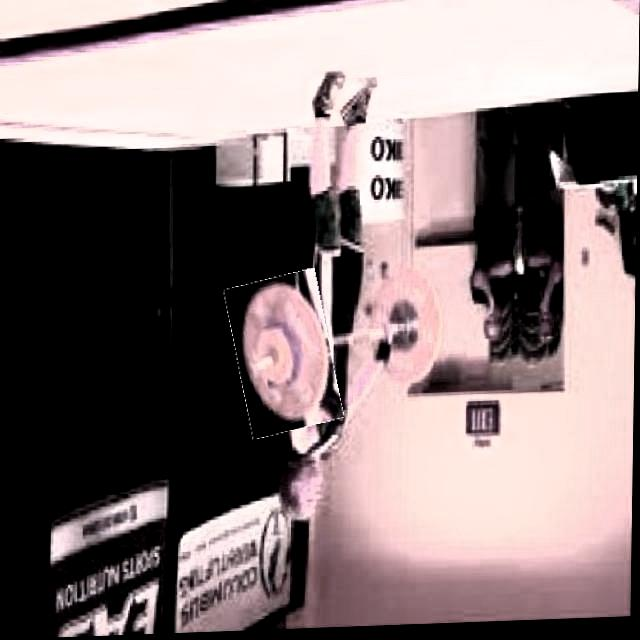barbell: (231, 273, 340, 439)
